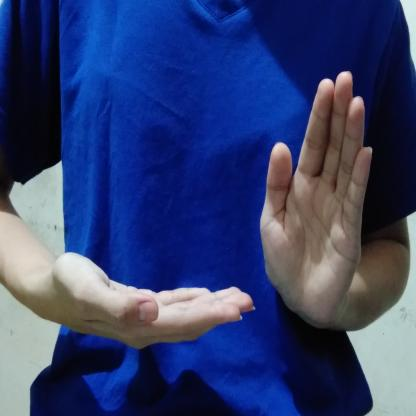hello: (46, 66, 376, 356)
